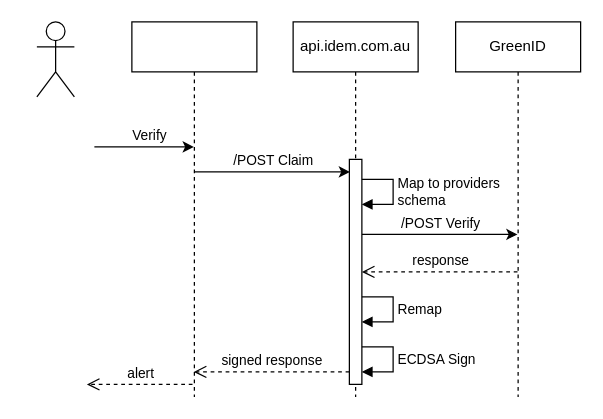
Image size: 603x419. Some labels were removed from this diagram. The box of each missing label's shape, as (x1, y1, x2, y2) in pixels:
Idem User: (36, 21, 74, 97)
Mobile: (131, 21, 257, 397)
